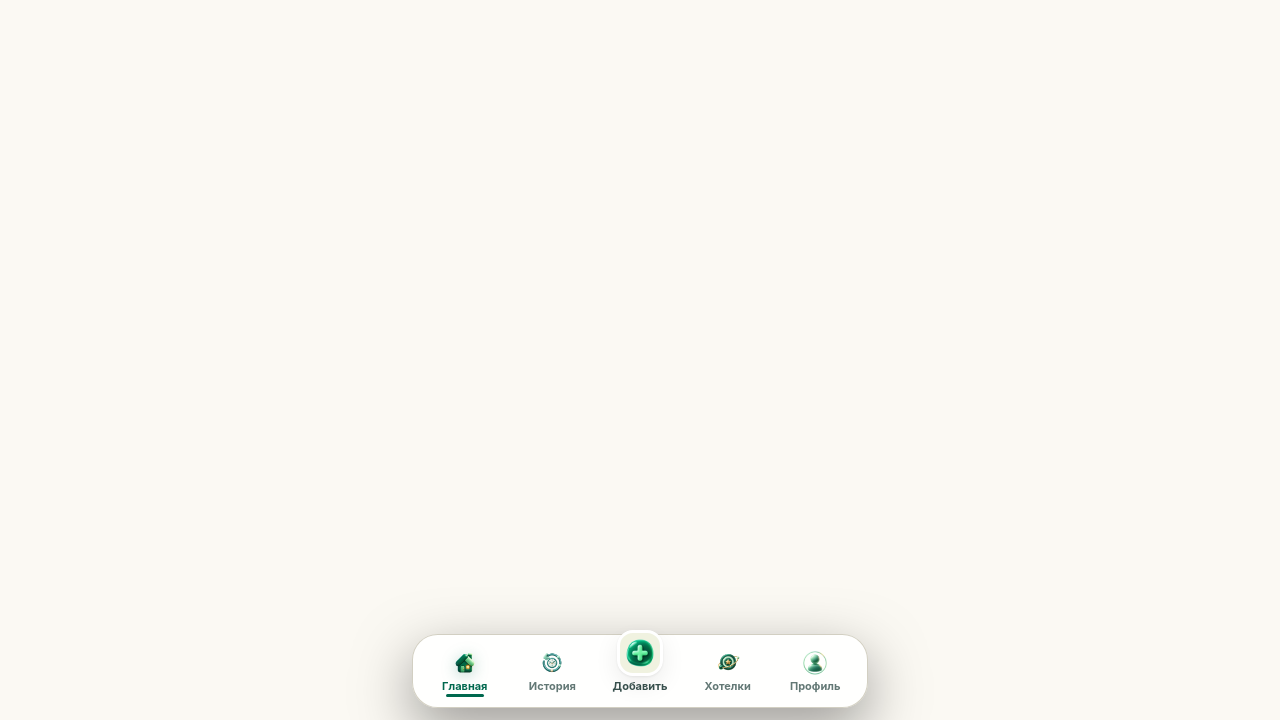
Test case: application navigation › opens a real form from a quick action and refreshes after success
Click the button "Добавить": (640, 671) [596,643,684,699]
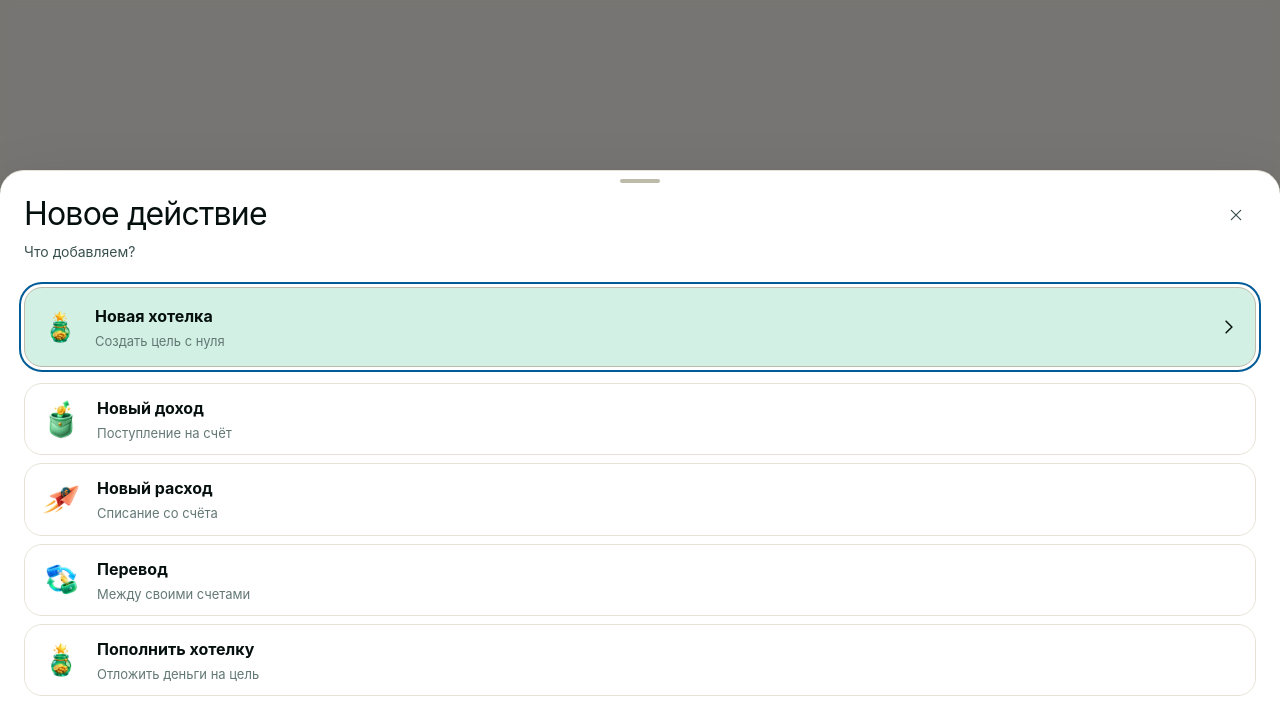
Click the button "Новый расход Списание со счёта": (61, 500) [24,463,1256,536]
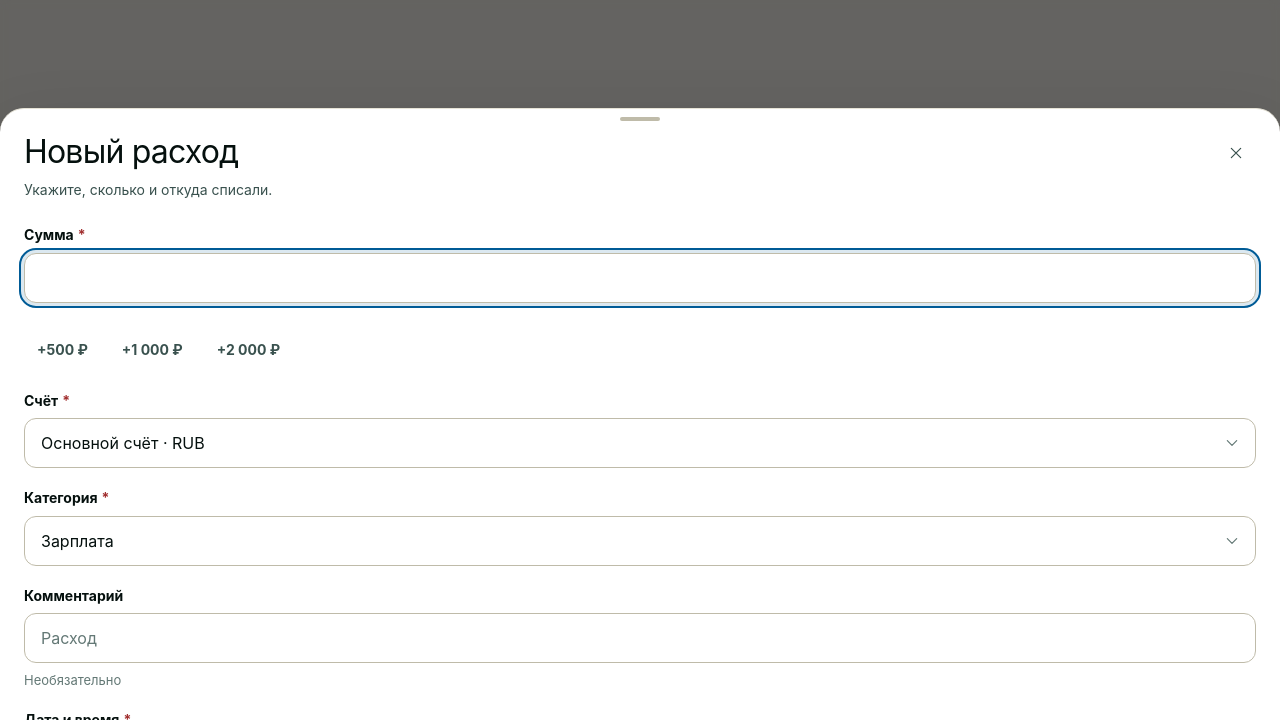
Result: the dialog "Новый расход" is shown
Result: the field labelled "Сумма*" is shown
In the field with test id "operation-amount": (640, 278) [24,253,1256,303], type "1000"
(page scrolled)
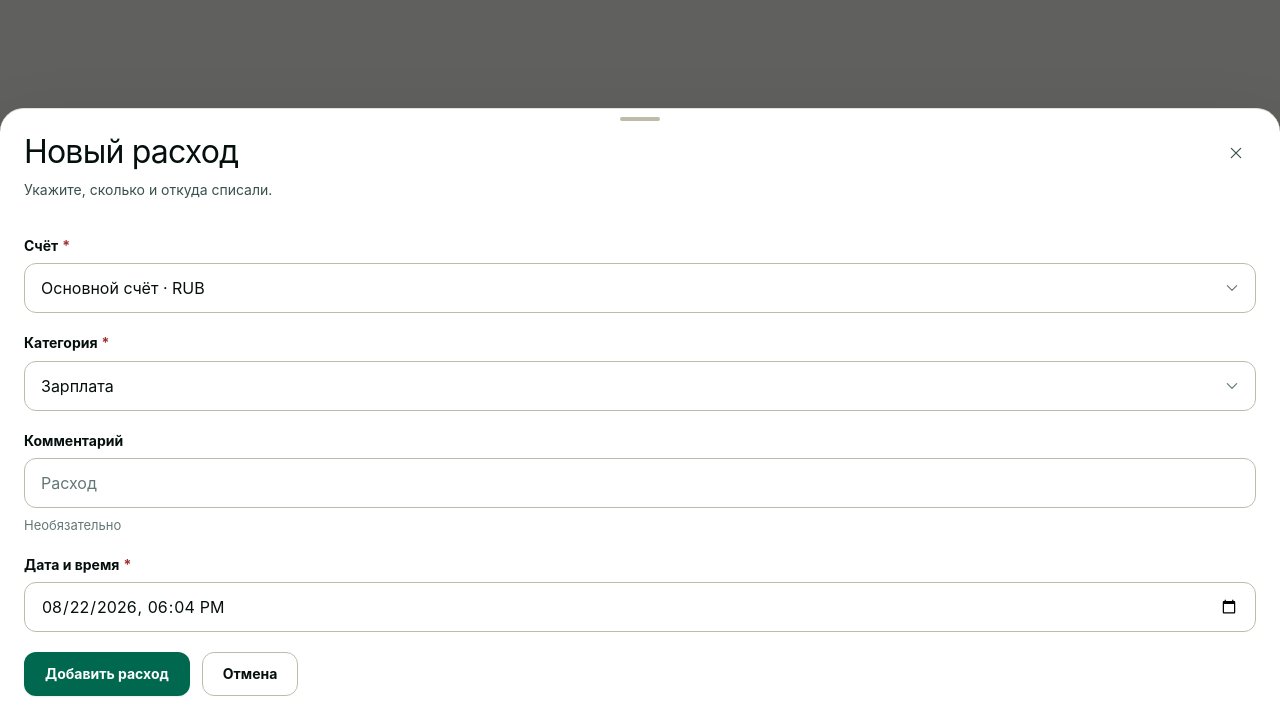
Click the button "Добавить расход": (107, 674) [24,652,190,696]
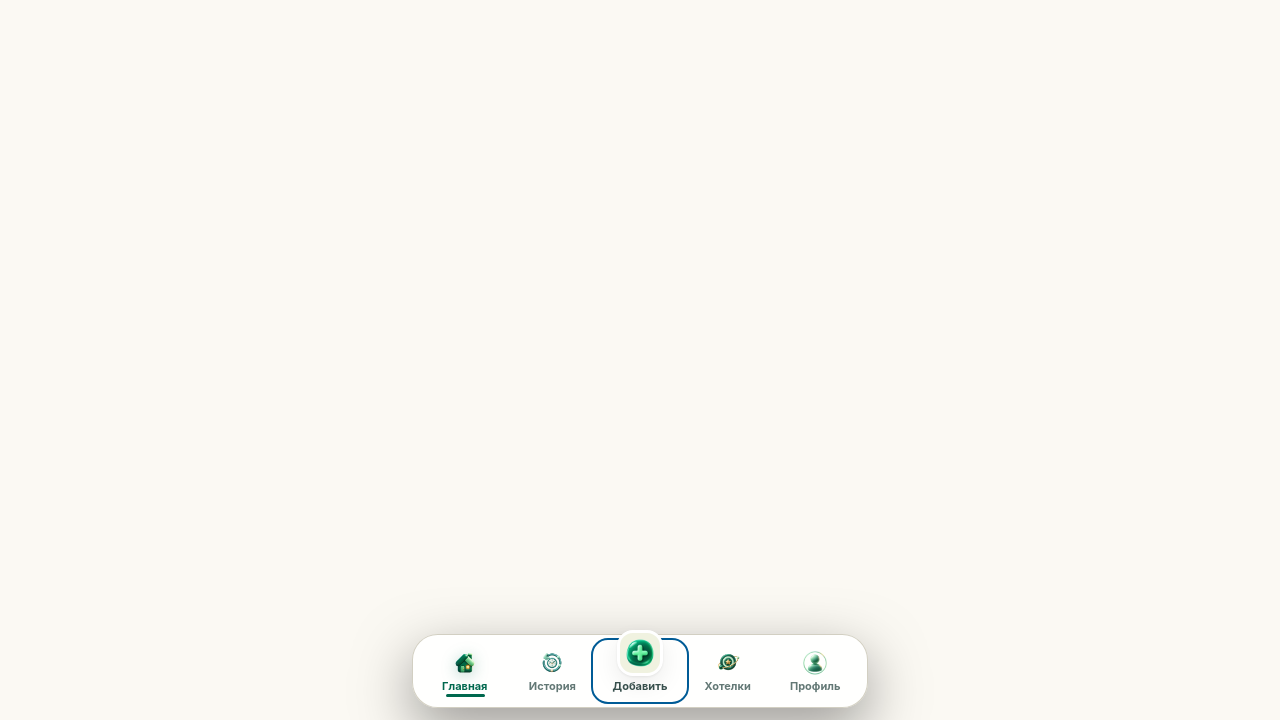
Result: the dialog is gone
